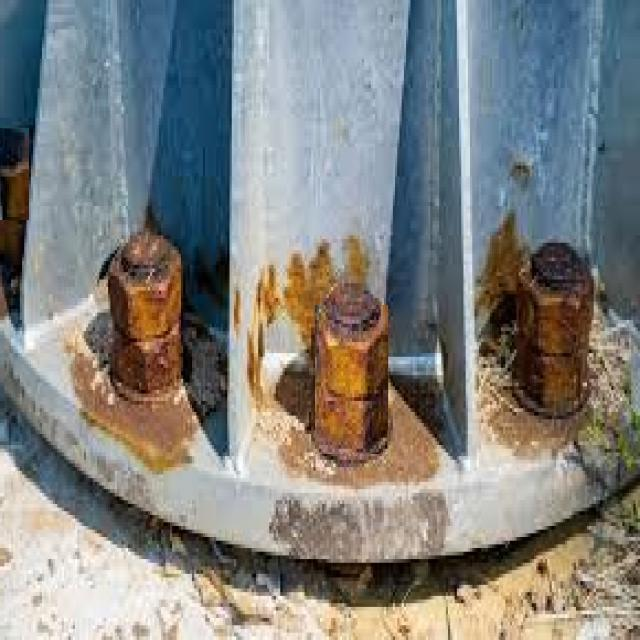Corrosion: (480, 214, 596, 450), (479, 214, 595, 418), (259, 386, 440, 488), (71, 341, 198, 472), (515, 243, 595, 417), (314, 285, 389, 461), (108, 230, 182, 394), (108, 230, 182, 340), (284, 253, 312, 344), (264, 265, 280, 324), (258, 324, 265, 358)
